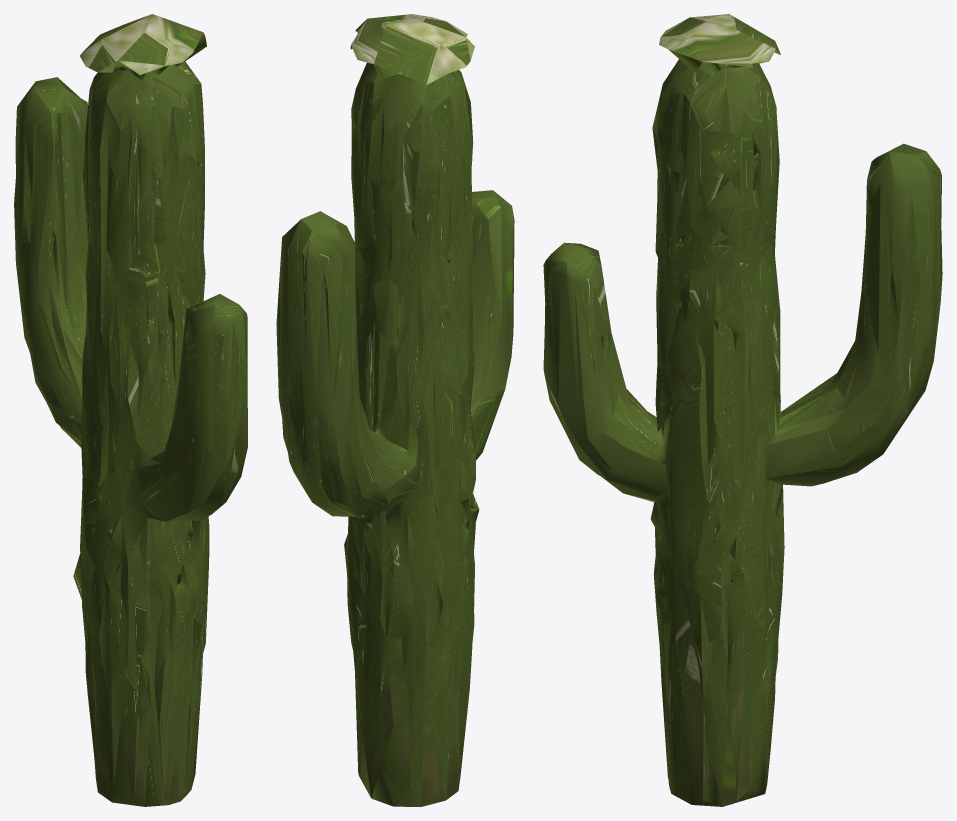
File: saguaro-cactus.glb
3 renders of one model, left to right at view 1: azimuth 30°, elevation 25°; view 2: azimuth 150°, elevation 25°; view 3: azimuth 270°, elevation 25°, orthographic.
Visible parts, largest first — view 1: world; view 2: world; view 3: world.
Boxes of the visible parts, box(x1,y1,x2,y2) form: world: box(14, 14, 247, 806); world: box(276, 14, 514, 806); world: box(543, 14, 942, 806).
Bounding box in the file's own units: 0.1614 × 0.9952 × 0.4681.
Materials: 1 (1 with a texture image).
